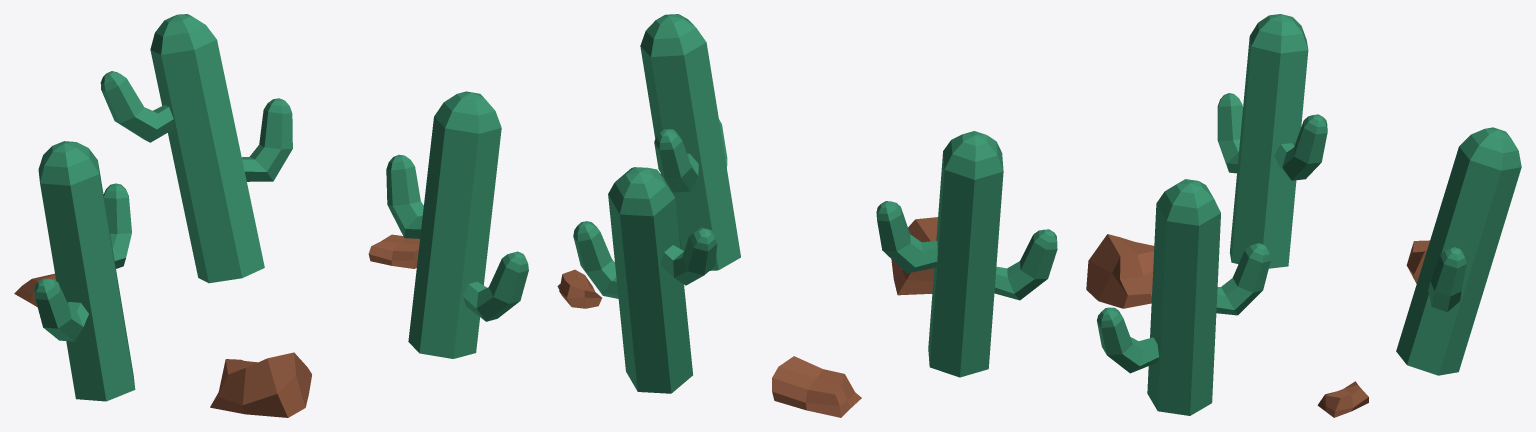
Rendered from Desert.fbx.
The picture shows the model from 3 angles, left to right: view 1: azimuth 30°, elevation 25°; view 2: azimuth 150°, elevation 25°; view 3: azimuth 270°, elevation 25°; orthographic projection. The views are drawn at different scales.
Parts seen in each view (by area): view 1: Desert; view 2: Desert; view 3: Desert.
Part boxes in pixels (left/top/right/bottom): Desert: left=14, top=14, right=528, bottom=417; Desert: left=557, top=14, right=1057, bottom=417; Desert: left=1086, top=14, right=1521, bottom=417.
Size of the model in its own units: 0.7744 by 0.4141 by 0.6772.
